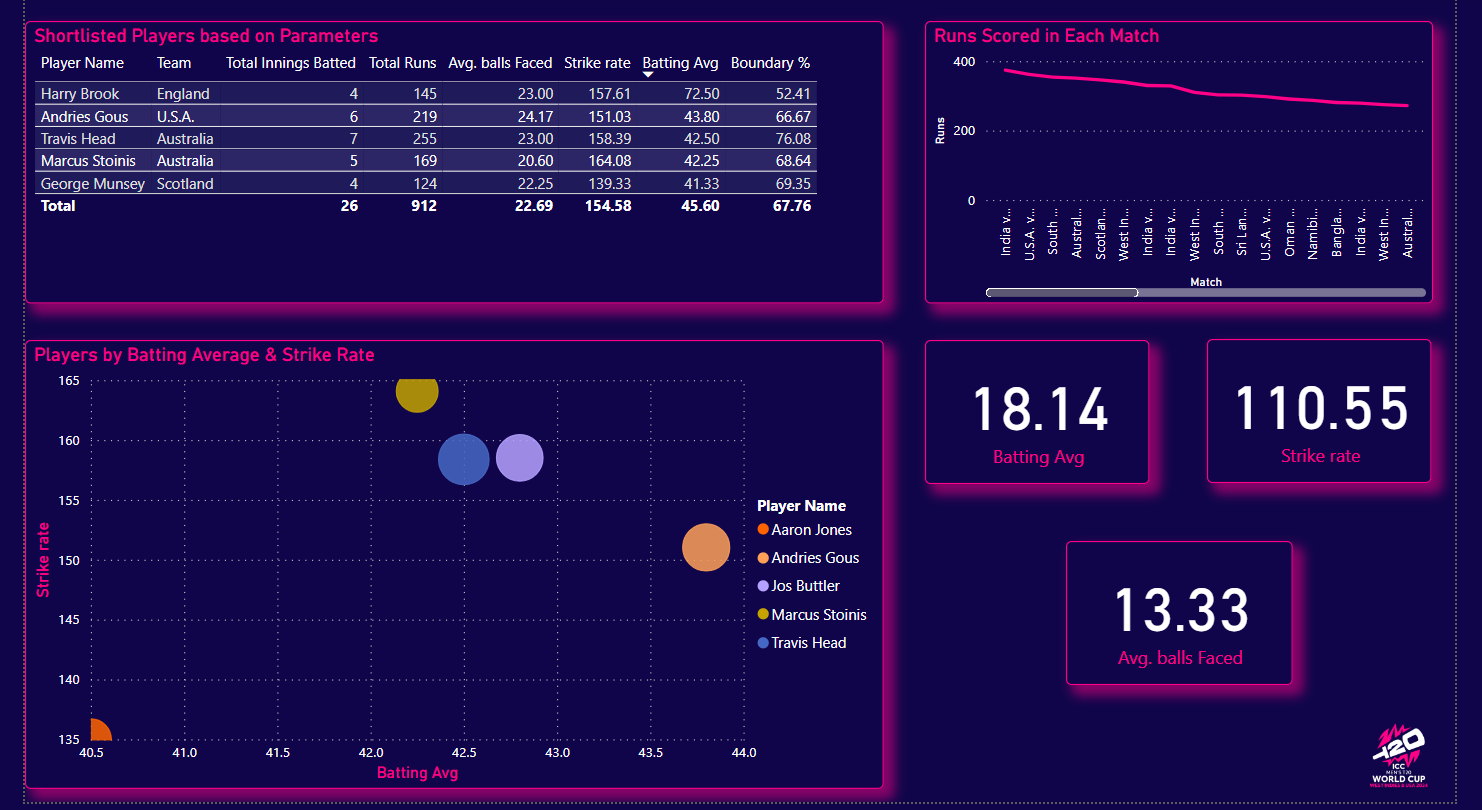

This screenshot's page, from the dashboard's own definition file:
{"tool":"powerbi","page":{"name":"Anchors / Middle Order","canvas":[1280,720],"ordinal":1},"visuals":[{"type":"tableEx","title":"Shortlisted Players based on Parameters","fields":{"Values":["t20worldcup_2024_players.Player Name","t20worldcup_2024_players.Team","key_measures.Total Innings Batted","key_measures.Total Runs","key_measures.Avg. balls Faced","key_measures.Strike rate","key_measures.Batting Avg","key_measures.Boundary %"]},"box":[0,20.5,769.4,253.3],"z":0},{"type":"scatterChart","title":"Players by Batting Average & Strike Rate","fields":{"Category":["t20worldcup_2024_players.Player Name"],"X":["key_measures.Batting Avg"],"Y":["key_measures.Strike rate"],"Series":["t20worldcup_2024_players.Player Name"],"Size":["key_measures.Total Runs"]},"box":[0,306.3,769.4,401.6],"z":1000},{"type":"card","fields":{"Values":["key_measures.Batting Avg"]},"box":[805.6,306.3,201.4,129],"z":2000},{"type":"card","fields":{"Values":["key_measures.Strike rate"]},"box":[1058.9,305.1,201.4,129],"z":3000},{"type":"card","fields":{"Values":["key_measures.Avg. balls Faced"]},"box":[932.3,486,202.6,129],"z":4000},{"type":"lineChart","title":"Runs Scored in Each Match","fields":{"Y":["batting_summary.Runs"],"Category":["batting_summary.match"]},"box":[805.6,20.5,454.7,253.3],"z":4001},{"type":"image","box":[1178.3,635.6,101.3,84.4],"z":4002}]}

Visuals, with their boxes in screenshot pixels (x1, y1, x2, y2), scaled from the page's 1280x720 canvas onto the 1482x810 screenshot:
"Shortlisted Players based on Parameters" tableEx: (0,23,891,308)
"Players by Batting Average & Strike Rate" scatterChart: (0,345,891,796)
card - key_measures.Batting Avg: (933,345,1166,490)
card - key_measures.Strike rate: (1226,343,1459,488)
card - key_measures.Avg. balls Faced: (1079,547,1314,692)
"Runs Scored in Each Match" lineChart: (933,23,1459,308)
image: (1364,715,1481,809)
